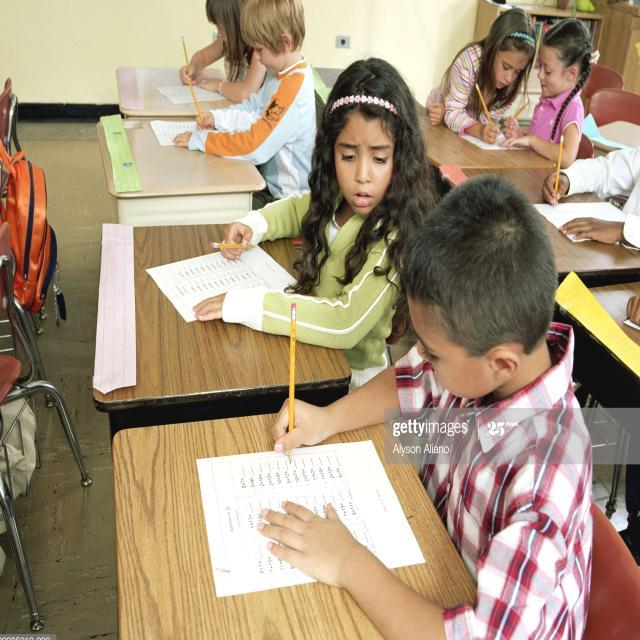cheating: (157, 39, 439, 360), (430, 3, 606, 166)
good: (203, 175, 600, 640)
